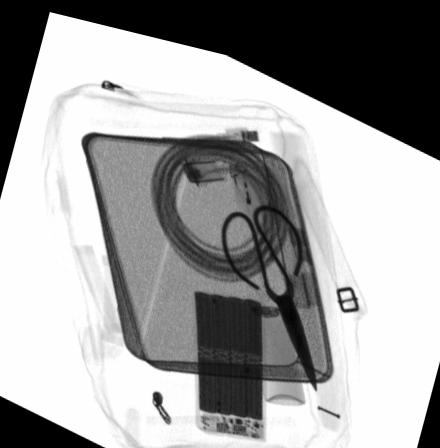Lighter: (226, 146, 265, 213)
Powerbank: (191, 278, 271, 428)
Scissors: (214, 189, 322, 376)
Sprayer: (246, 269, 306, 394)
